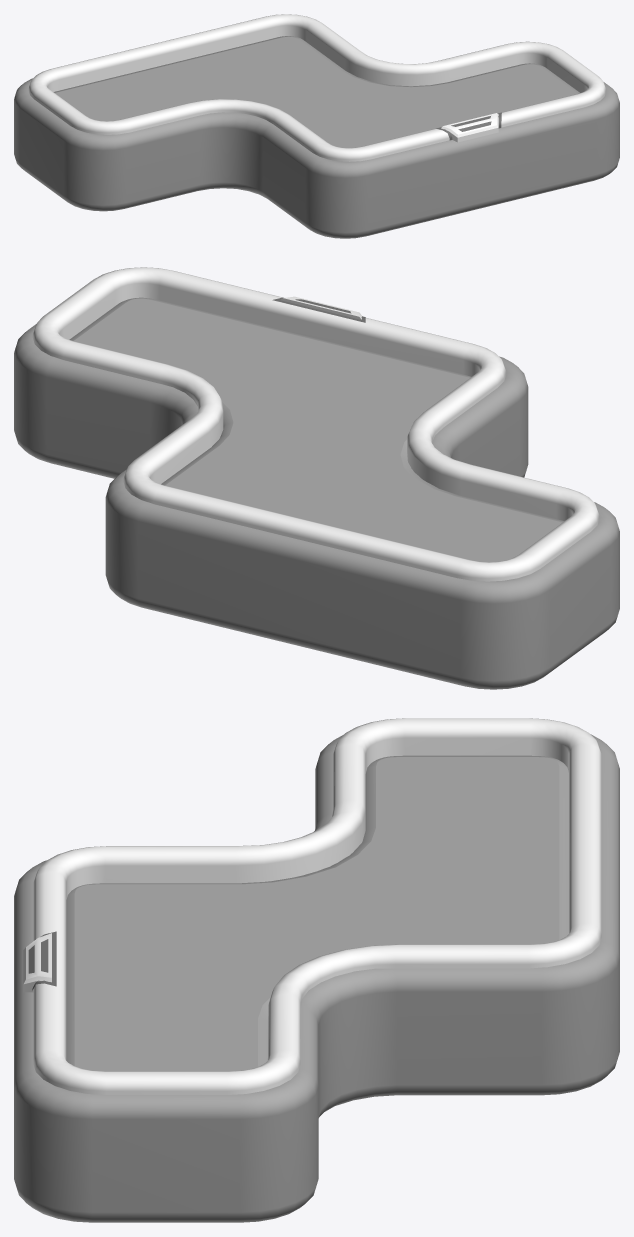
Rendered from Model_Block_Z_New.fbx.
3 renders of one model, top to bottom at view 1: azimuth 30°, elevation 25°; view 2: azimuth 150°, elevation 25°; view 3: azimuth 270°, elevation 25°, orthographic. The views are drawn at different scales.
Visible parts, largest first — view 1: Block_Z_BG, Block_Z_Water, Block_Z_Stroke; view 2: Block_Z_BG, Block_Z_Water, Block_Z_Stroke; view 3: Block_Z_BG, Block_Z_Water, Block_Z_Stroke.
Part boxes in pixels (x1,y1,x2,y2): Block_Z_BG: [14, 78, 619, 238]; Block_Z_Water: [53, 36, 579, 148]; Block_Z_Stroke: [28, 14, 606, 161]; Block_Z_BG: [14, 324, 619, 689]; Block_Z_Water: [69, 297, 563, 562]; Block_Z_Stroke: [32, 267, 599, 581]; Block_Z_BG: [14, 734, 619, 1222]; Block_Z_Water: [66, 755, 568, 1071]; Block_Z_Stroke: [23, 718, 601, 1094].
Bounding box in the file's own units: 295 × 51.66 × 197.
Materials: 2 (1 with a texture image).
